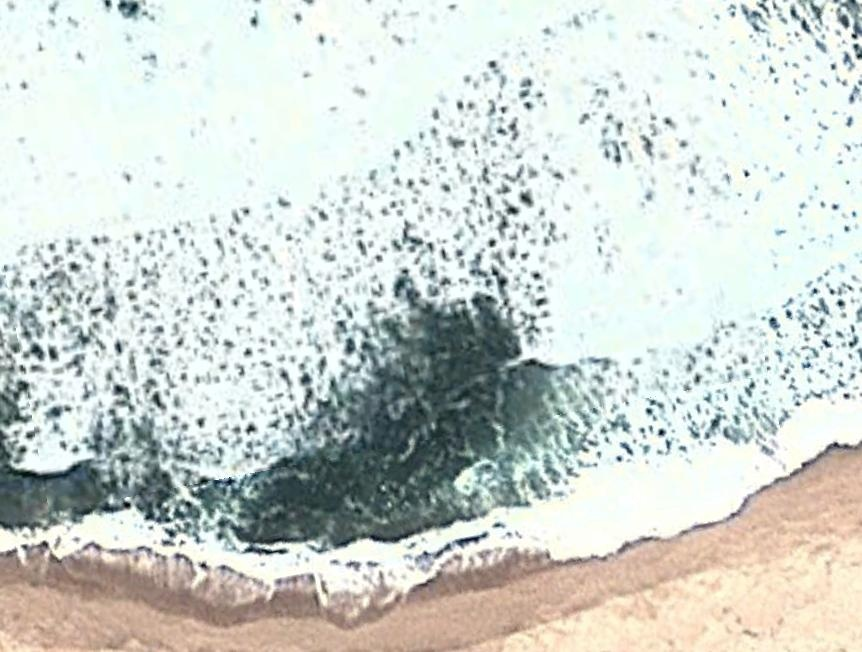rip_current: (262, 219, 591, 522)
